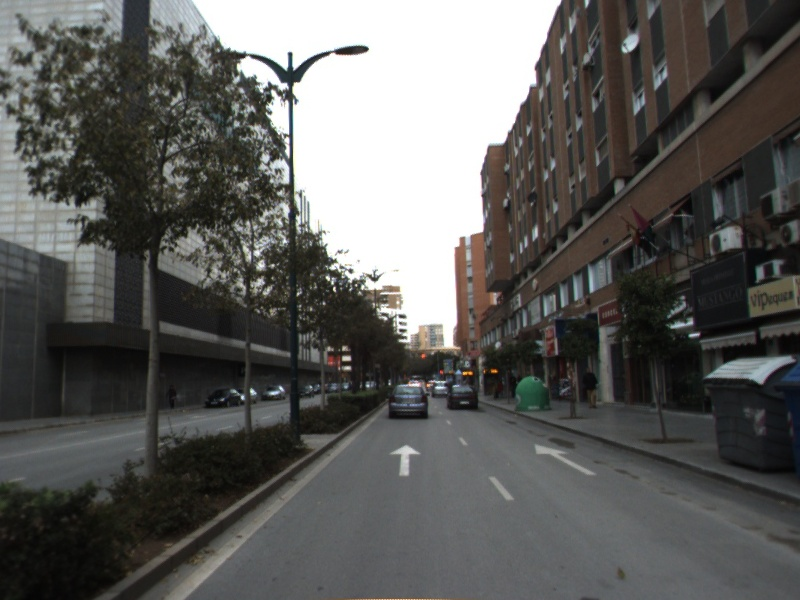STRAIGHT: (532, 442, 599, 477), (387, 442, 423, 478)
